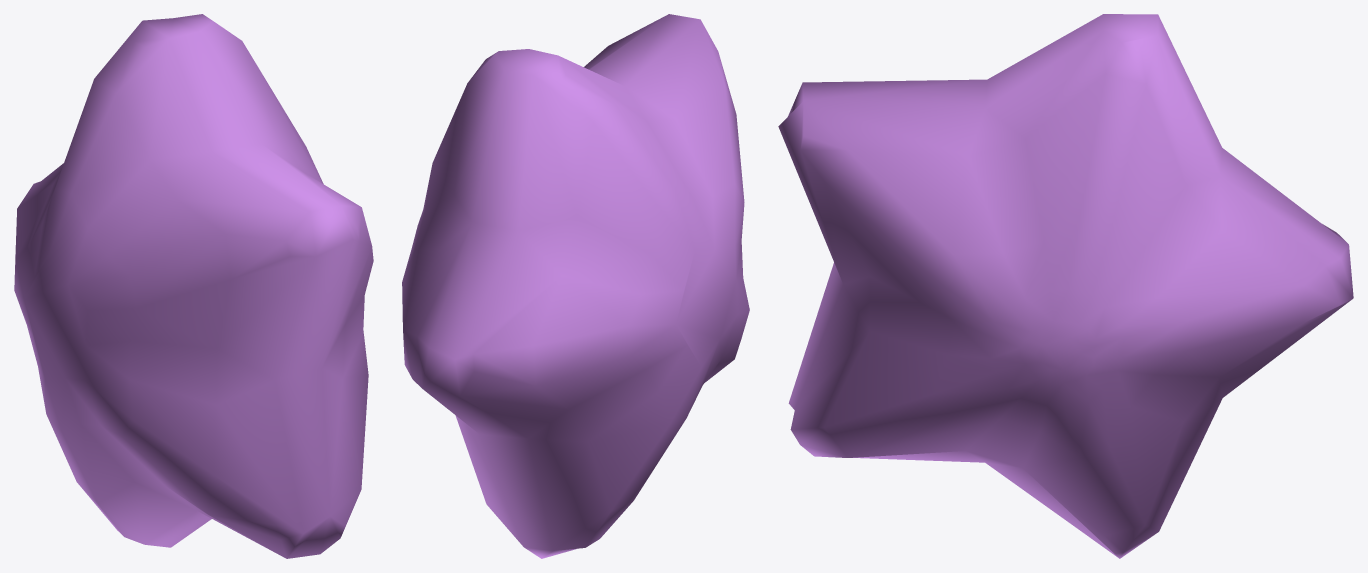
Rendered from starOne.glb.
The picture shows the model from 3 angles, left to right: view 1: azimuth 30°, elevation 25°; view 2: azimuth 150°, elevation 25°; view 3: azimuth 270°, elevation 25°; orthographic projection. The views are drawn at different scales.
Visible parts, largest first — view 1: star.001; view 2: star.001; view 3: star.001.
Boxes of the visible parts, <box> form: star.001: <box>14,14,373,558</box>; star.001: <box>402,14,749,558</box>; star.001: <box>778,14,1353,558</box>.
Bounding box in the file's own units: 2.32 × 3.96 × 3.82.
